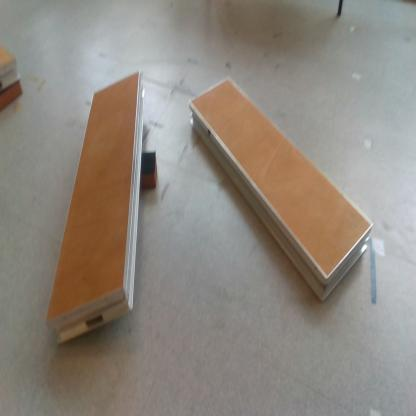Stairs: (191, 78, 373, 306), (46, 74, 146, 350), (1, 47, 21, 97)
